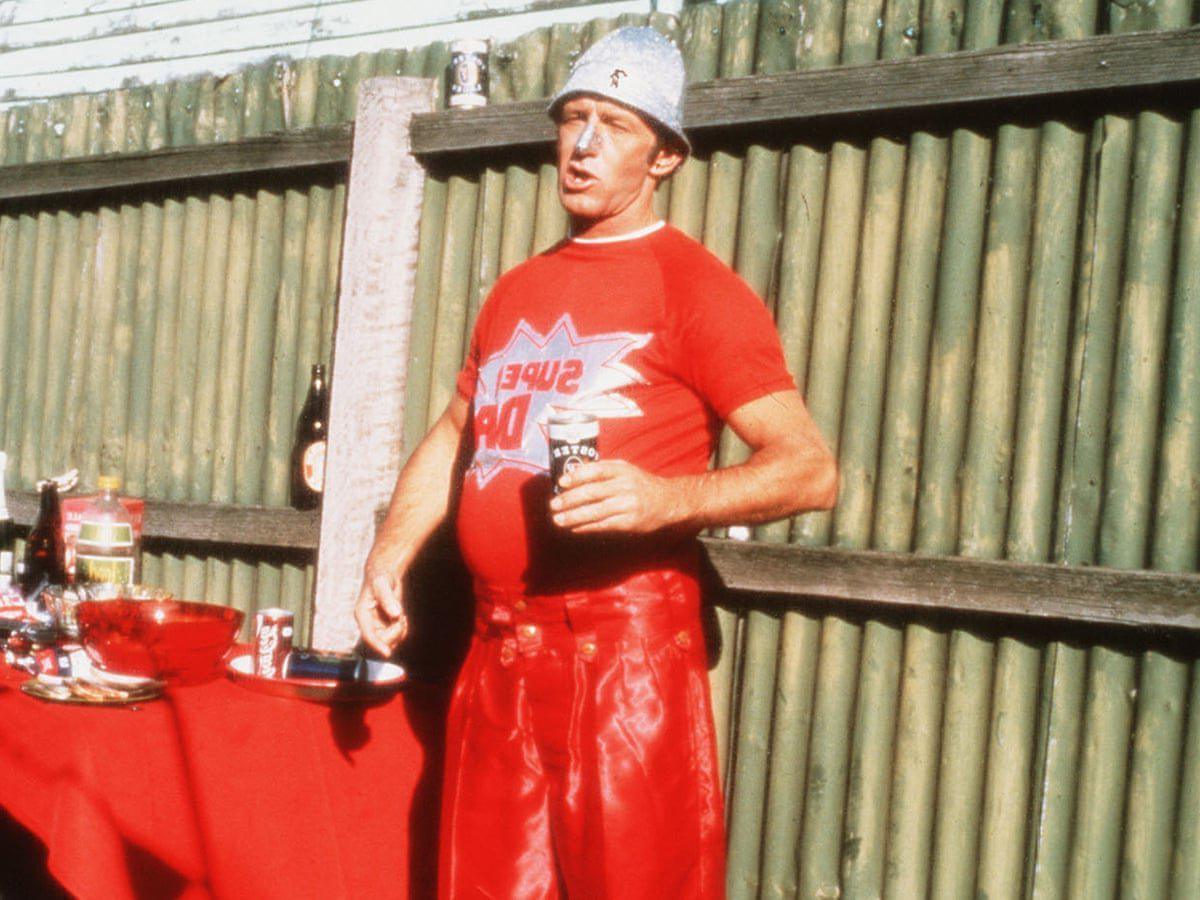Drunk: (553, 94, 643, 216)
